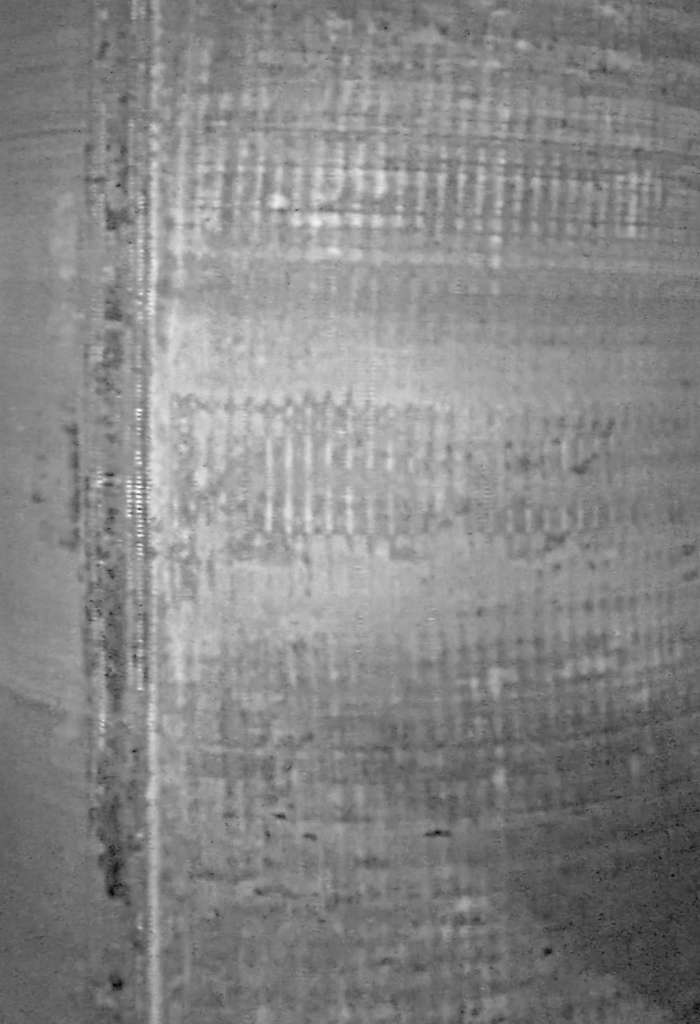splice: (66, 1, 170, 1024)
